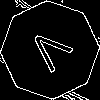V: (25, 25, 82, 80)
